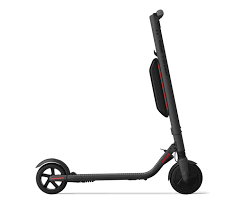scooter: (35, 9, 203, 194)
